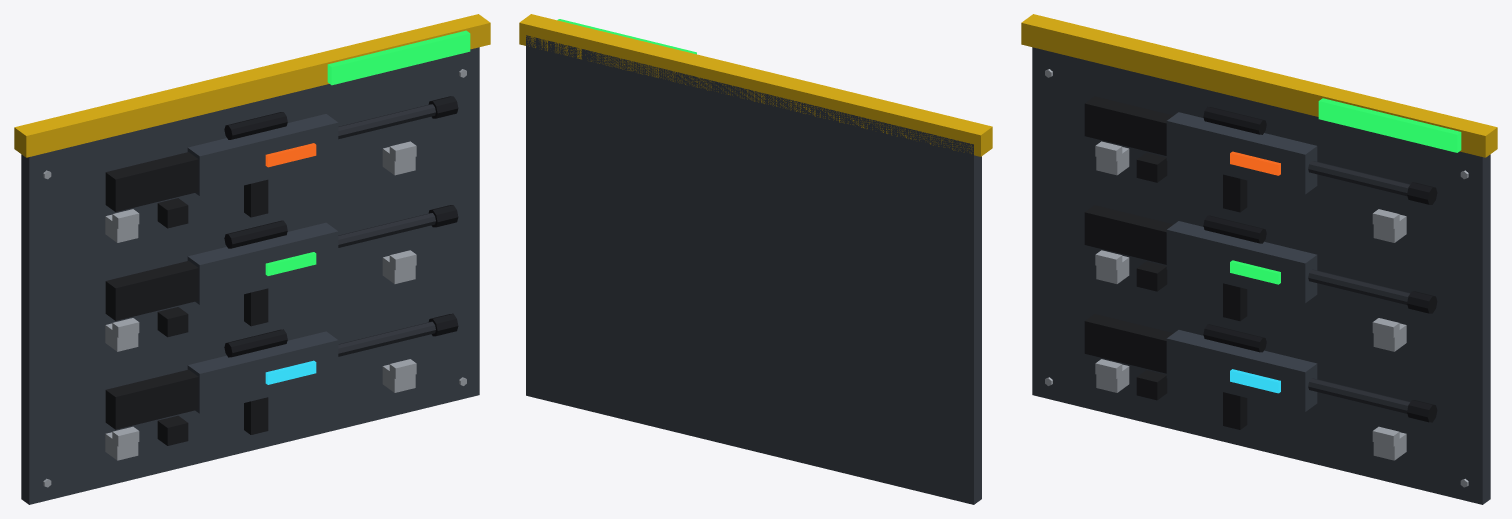
Rendered from weaponrack_rifle_rack_wall.glb.
The picture shows the model from 3 angles, left to right: view 1: azimuth 30°, elevation 25°; view 2: azimuth 150°, elevation 25°; view 3: azimuth 330°, elevation 25°; orthographic projection.
Parts seen in each view (by area): view 1: weaponrack_rifle_rack_wall; view 2: weaponrack_rifle_rack_wall; view 3: weaponrack_rifle_rack_wall.
Boxes of the visible parts, left/top/right/bottom form: weaponrack_rifle_rack_wall: left=14, top=14, right=490, bottom=504; weaponrack_rifle_rack_wall: left=519, top=14, right=992, bottom=504; weaponrack_rifle_rack_wall: left=1021, top=14, right=1497, bottom=504.
Bounding box in the file's own units: 1.34 × 1.03 × 0.142.
